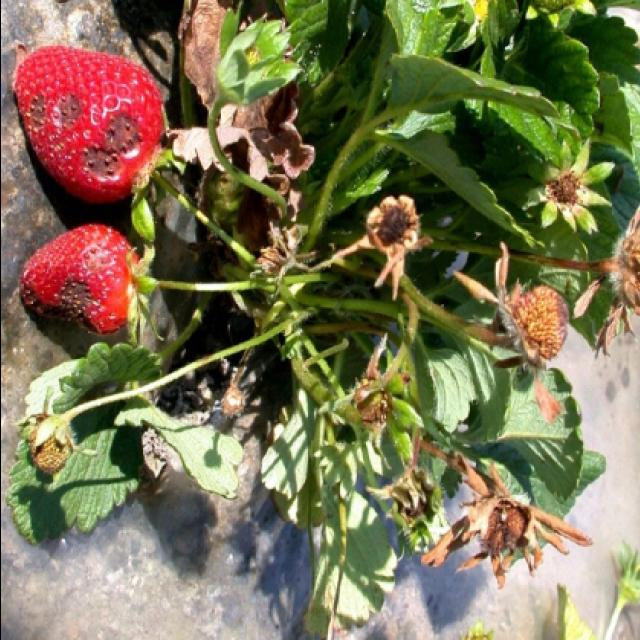Anthracnose Fruit Rot: (108, 114, 139, 150), (63, 282, 93, 318), (84, 153, 118, 180), (26, 98, 50, 125), (60, 95, 80, 121)
